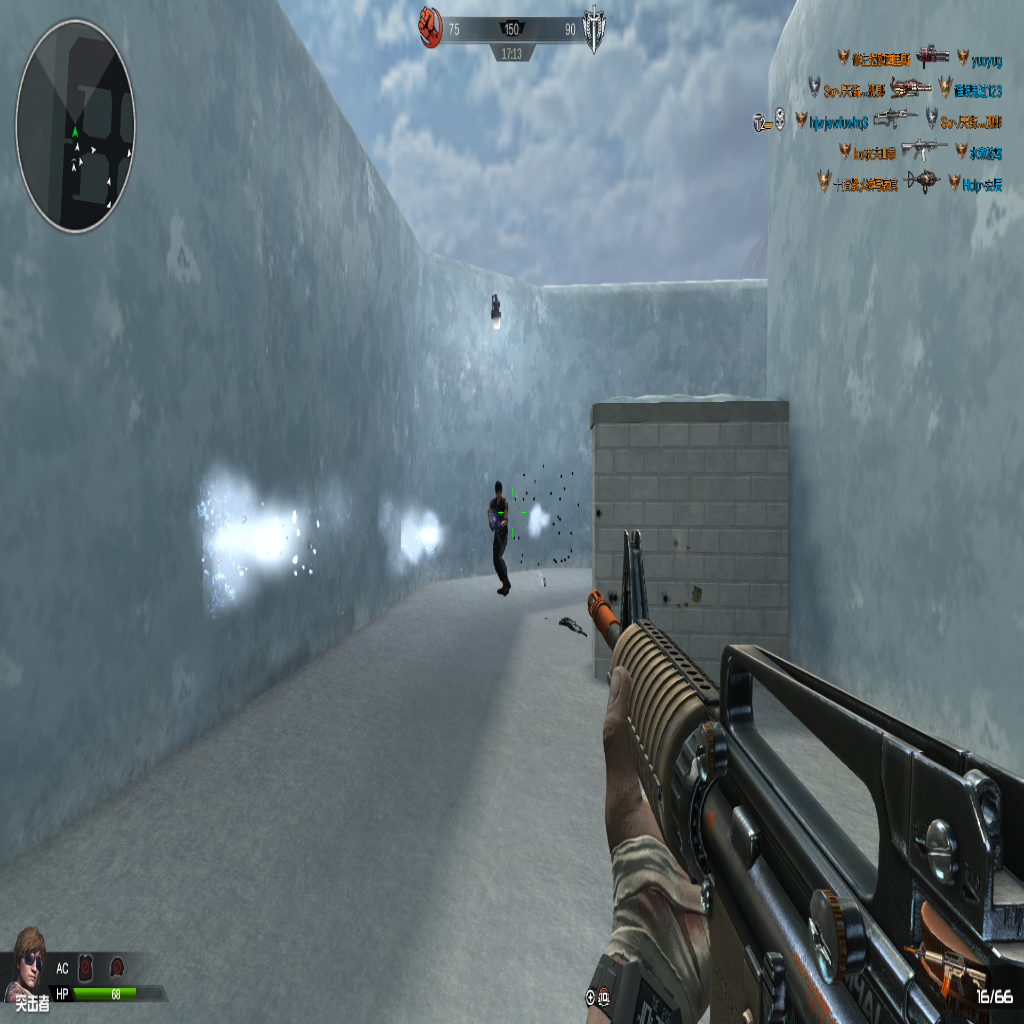ct: (490, 477, 511, 595)
